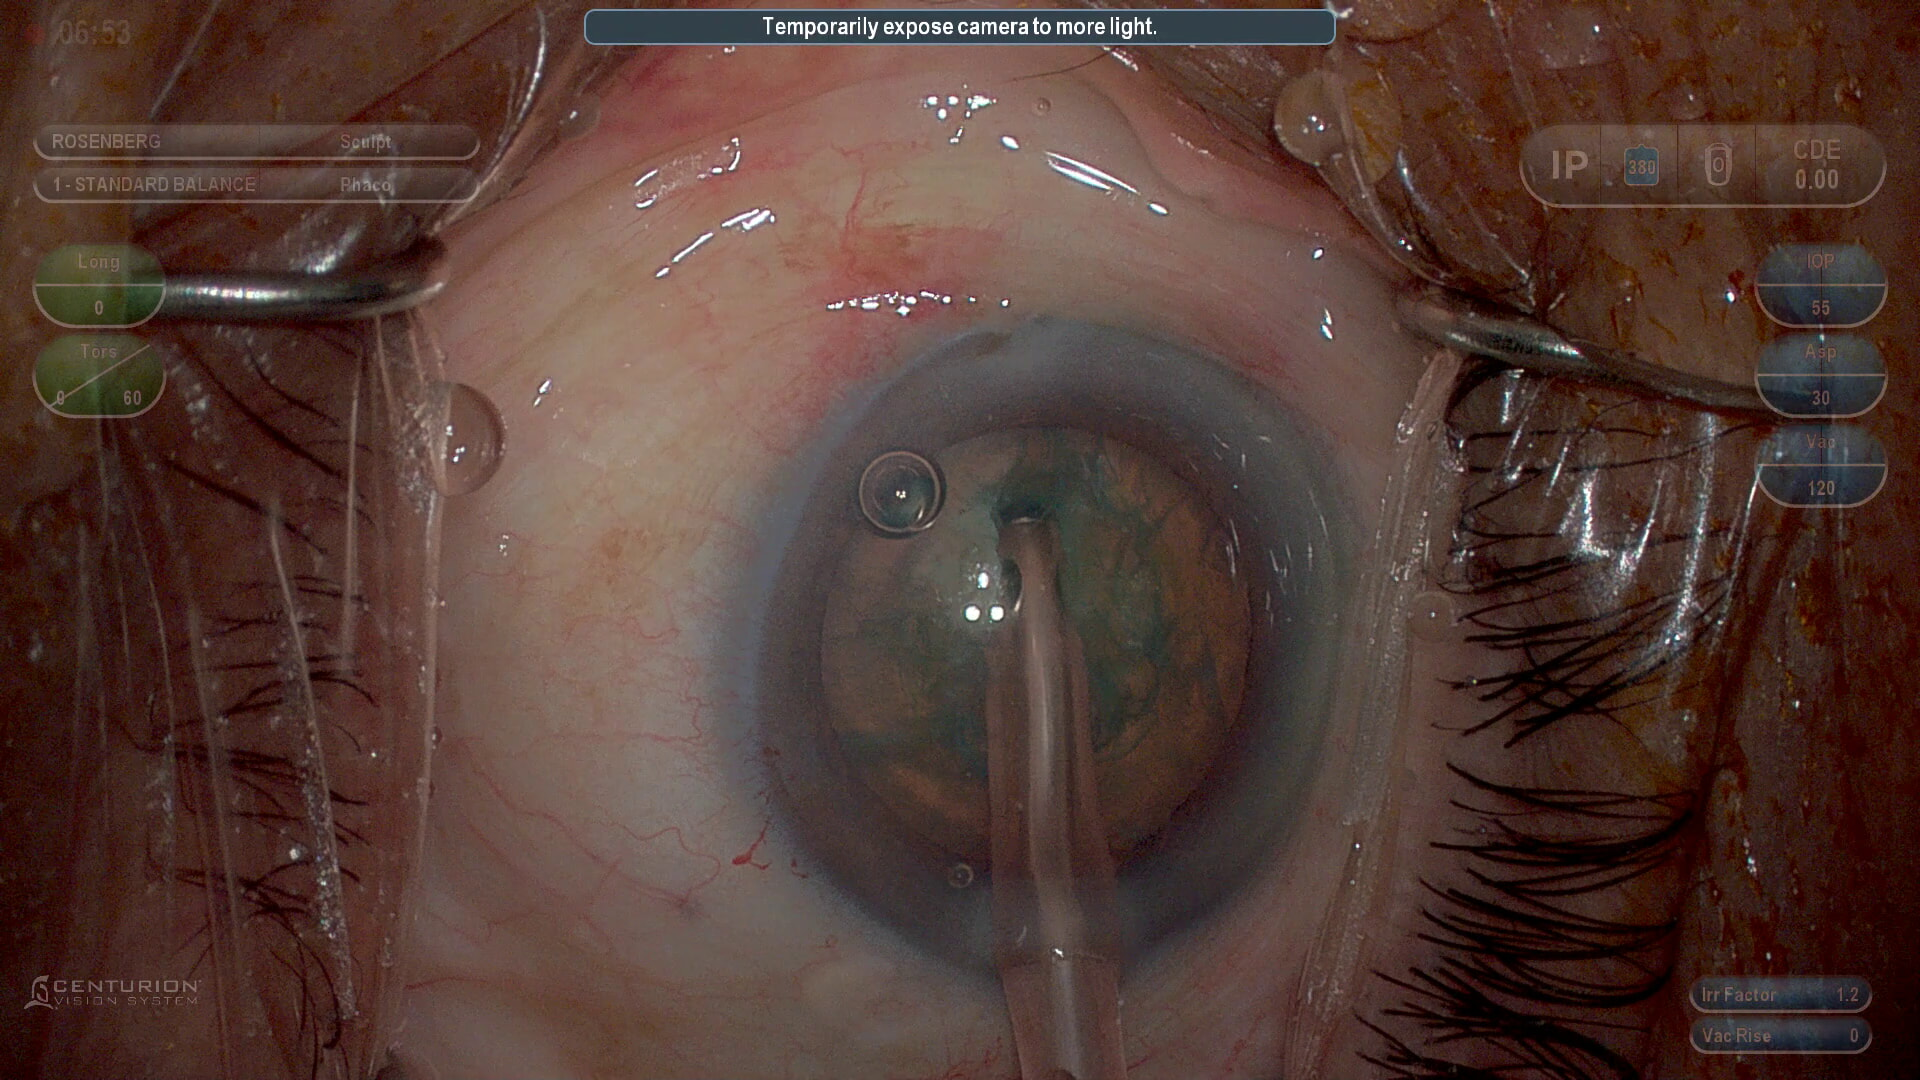iris: (750, 328, 1340, 963)
pupil: (818, 433, 1271, 873)
